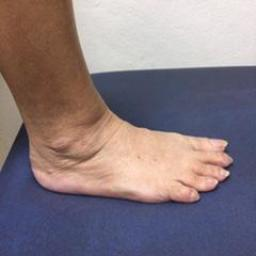Lateral View -Right Foot-: (12, 91, 238, 212)
